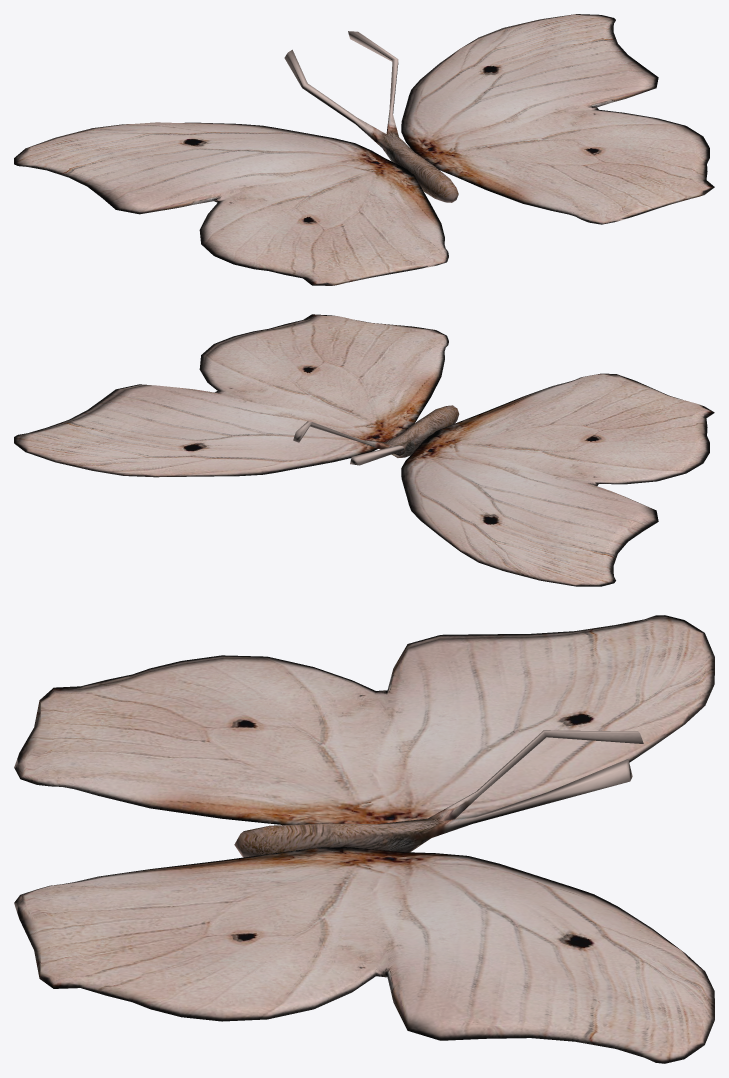
File: Butterfly_Lod6.fbx
3 views of the same model, one above another, from view 1: azimuth 30°, elevation 25°; view 2: azimuth 150°, elevation 25°; view 3: azimuth 270°, elevation 25° (orthographic). The views are drawn at different scales.
Parts seen in each view (by area): view 1: Butterfly_wings, Butterfly_Body; view 2: Butterfly_wings, Butterfly_Body; view 3: Butterfly_wings, Butterfly_Body.
Boxes of the visible parts, x1,y1,x2,y2 form: Butterfly_wings: [14, 14, 714, 285]; Butterfly_Body: [284, 31, 458, 202]; Butterfly_wings: [14, 314, 714, 586]; Butterfly_Body: [293, 405, 459, 465]; Butterfly_wings: [14, 615, 714, 1063]; Butterfly_Body: [234, 730, 643, 857].
Size of the model in its own units: 104 by 13.1 by 68.47.
